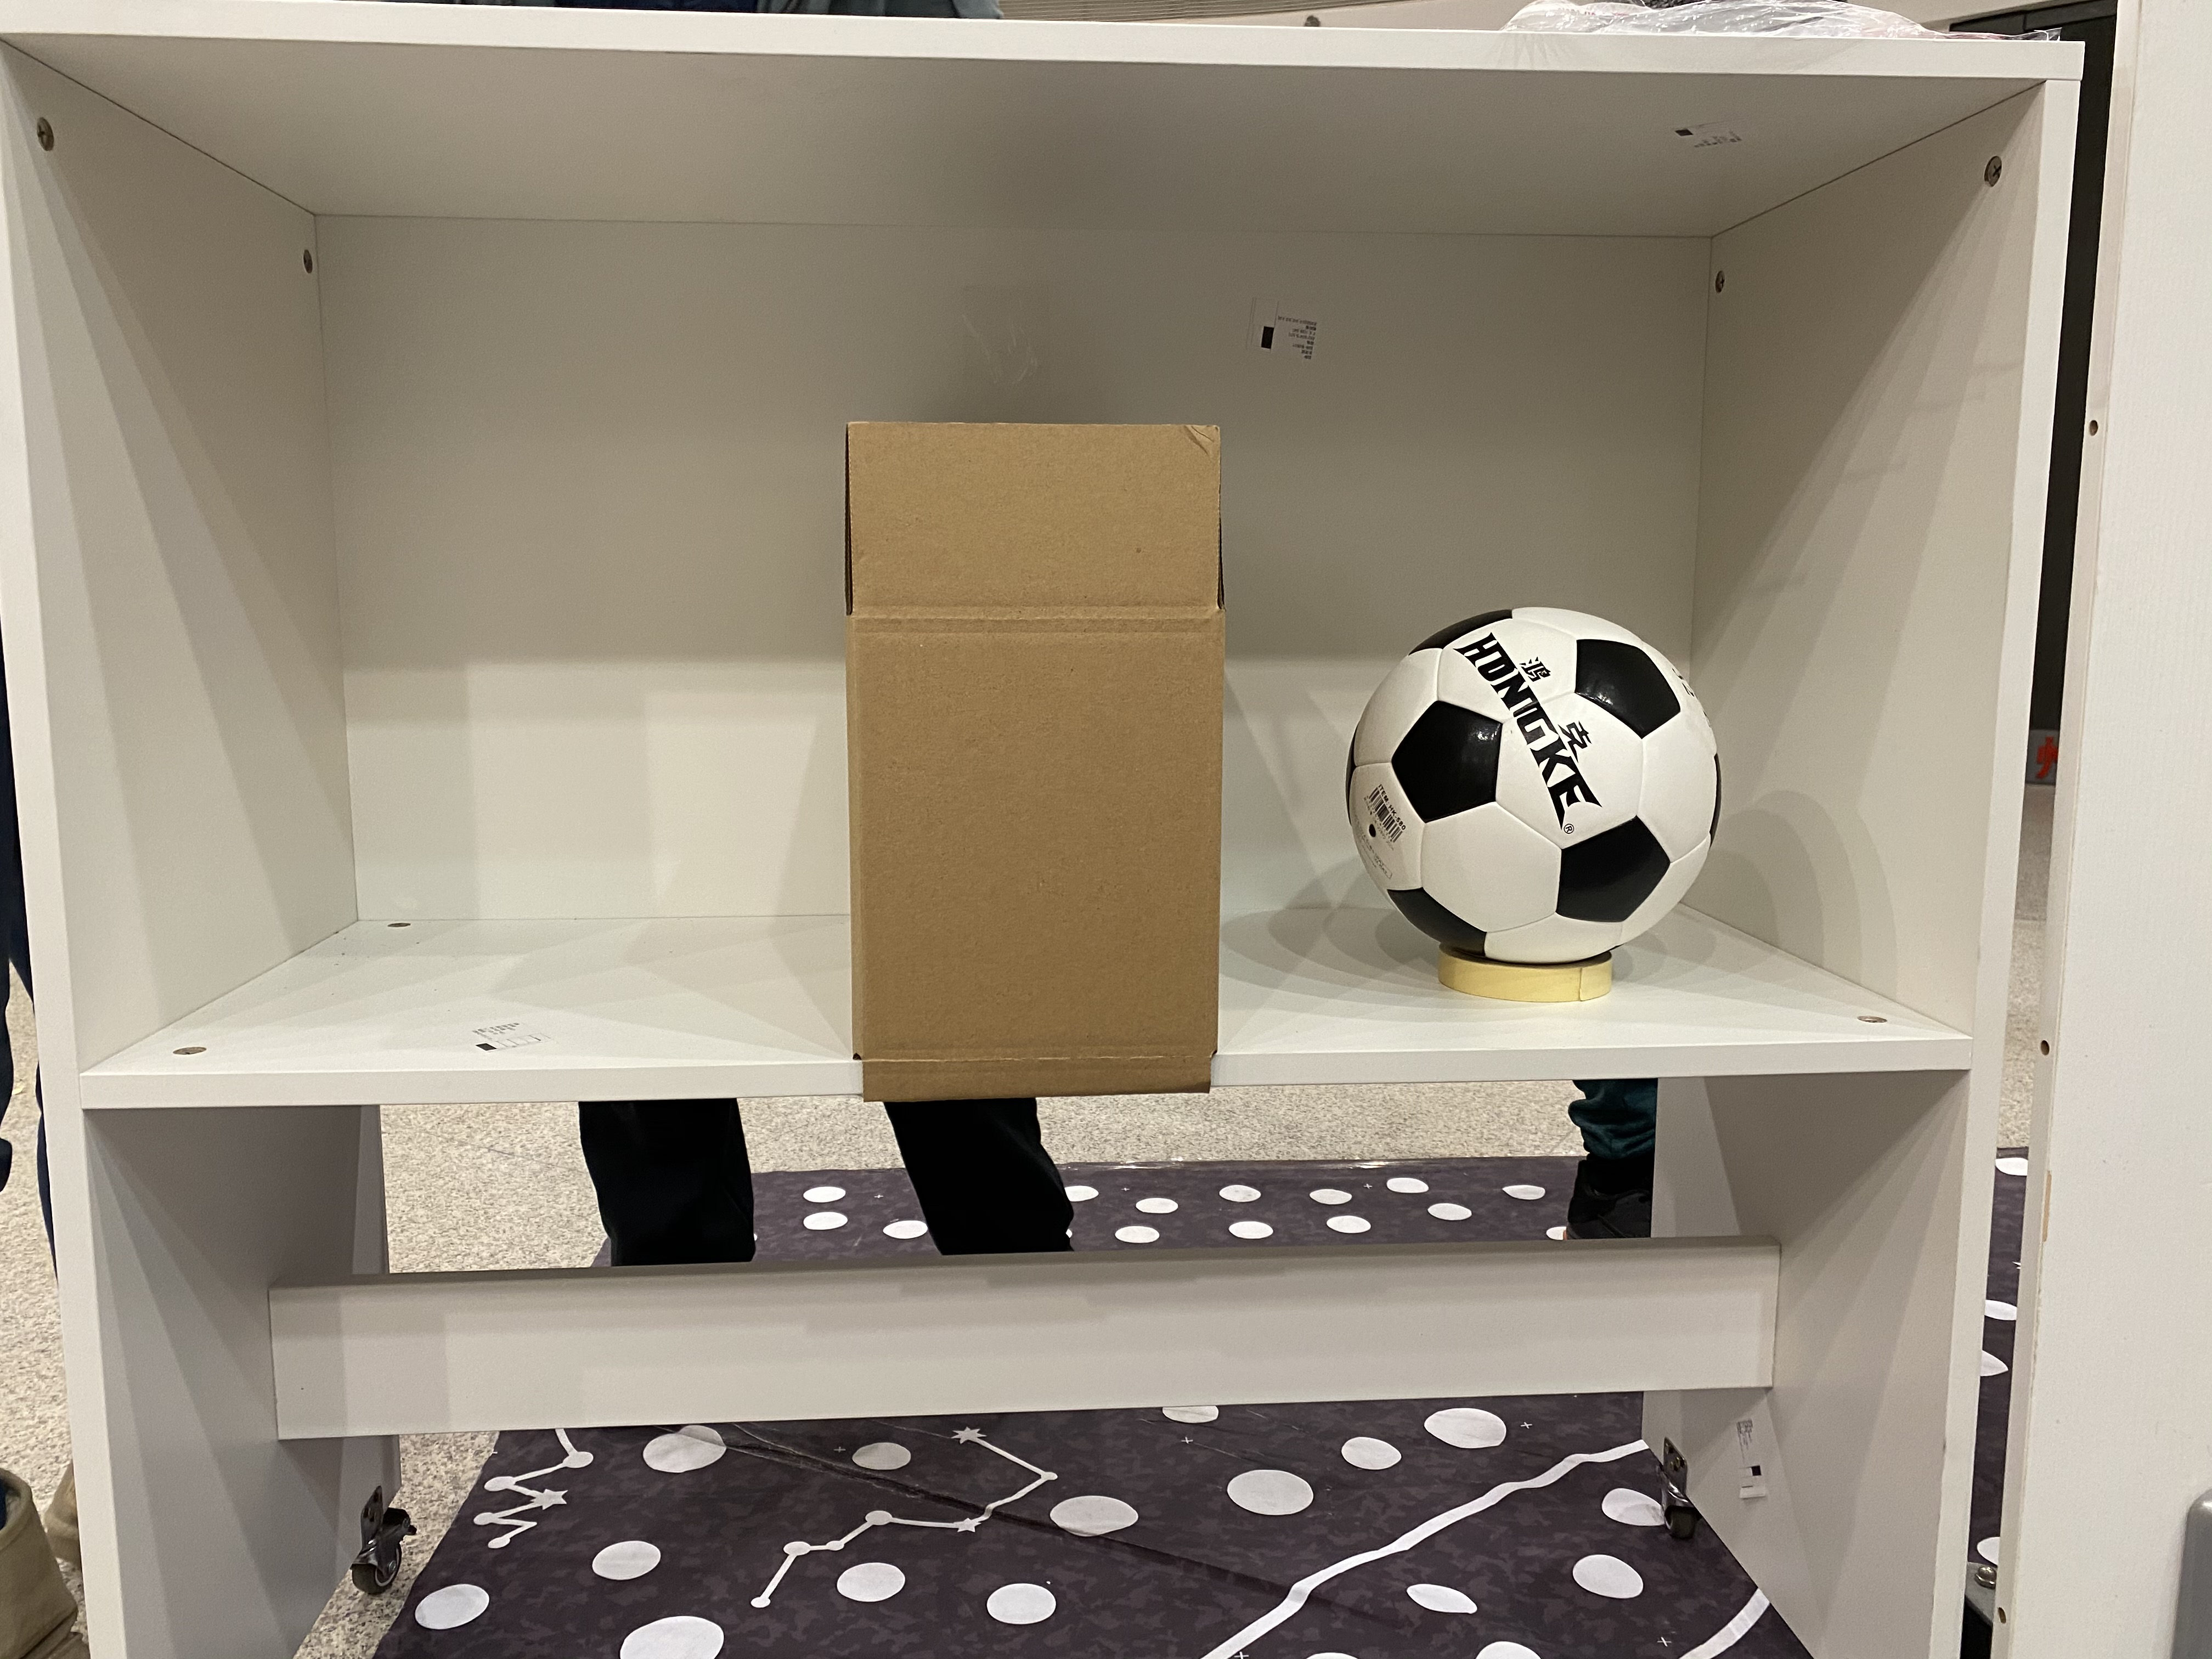football: (1345, 599, 1726, 953)
